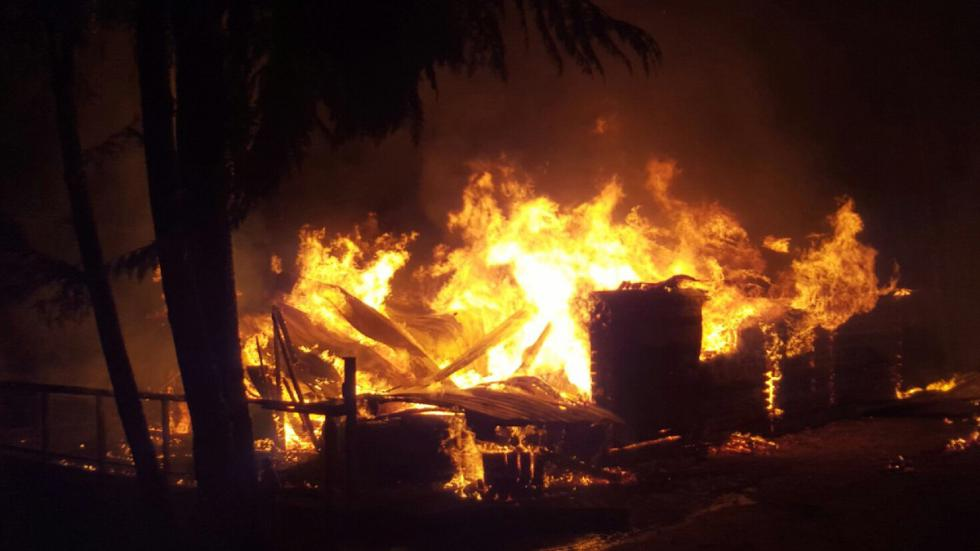fire: (215, 117, 911, 427)
